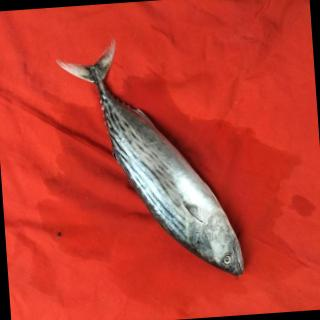Ikan: (53, 29, 256, 295)
